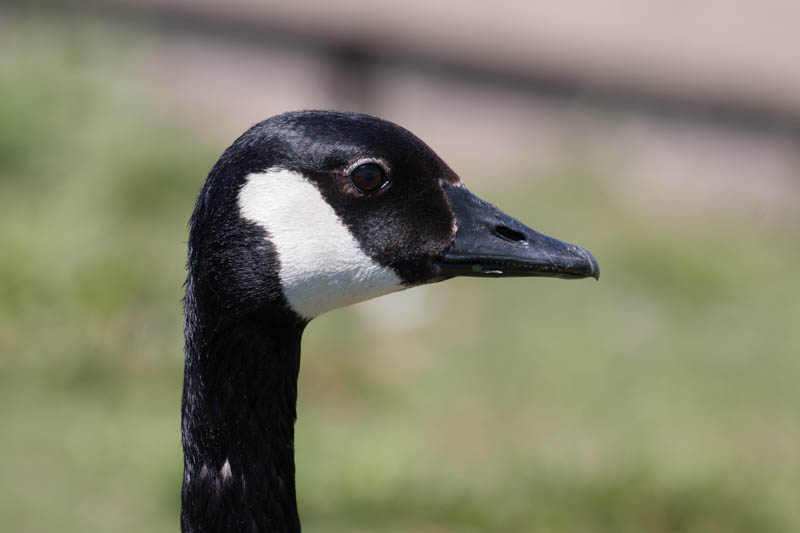goose-head: (187, 108, 602, 320)
